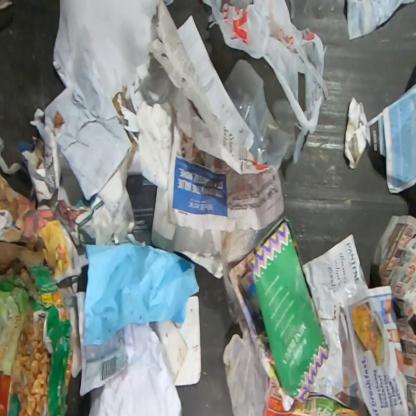cardboard: (0, 261, 75, 416)
soft_plastic: (201, 0, 329, 165), (223, 58, 292, 171)
